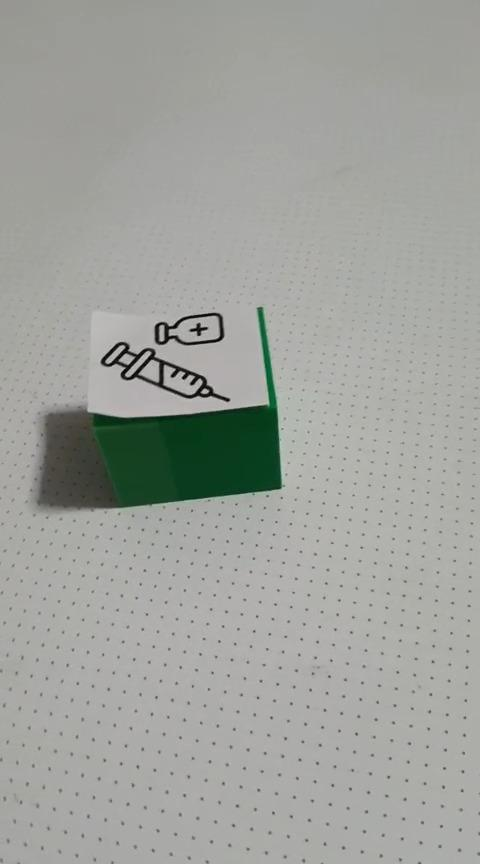antiseptic cream: (85, 303, 283, 507)
